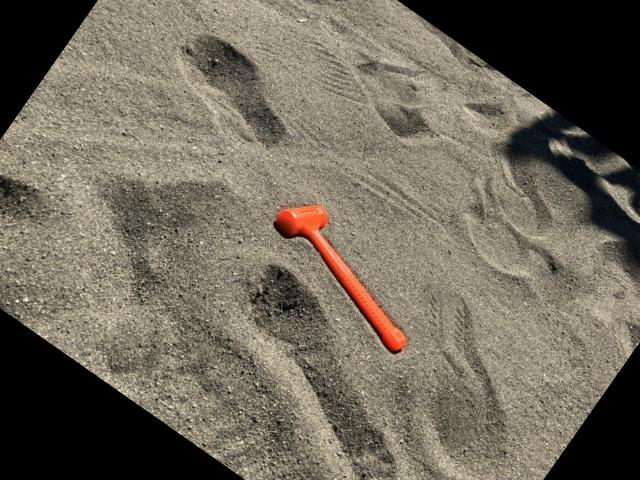hammer: (250, 187, 443, 357)
